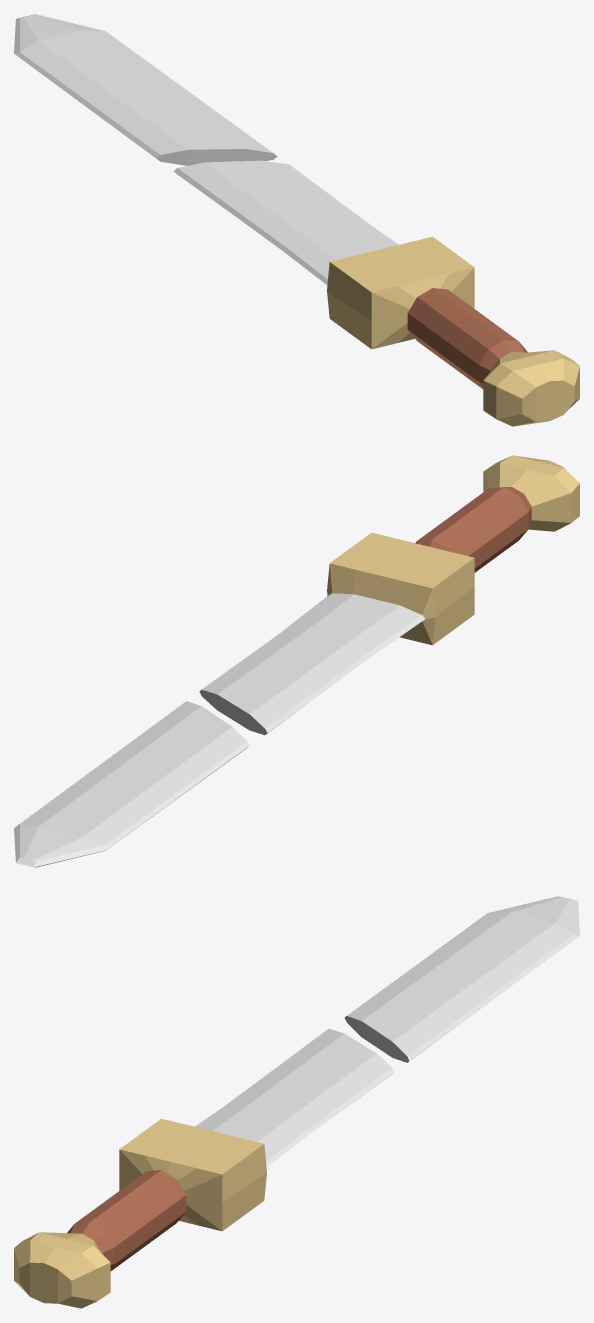
File: Sword Broken 1.fbx
The picture shows the model from 3 angles, top to bottom: view 1: azimuth 30°, elevation 25°; view 2: azimuth 150°, elevation 25°; view 3: azimuth 330°, elevation 25°; orthographic projection.
Parts seen in each view (by area): view 1: Sword Hacker.001, Sword Hacker.002; view 2: Sword Hacker.001, Sword Hacker.002; view 3: Sword Hacker.001, Sword Hacker.002.
Part boxes in pixels (bbox=[...]): Sword Hacker.001: bbox=[173, 160, 579, 426]; Sword Hacker.002: bbox=[14, 14, 277, 165]; Sword Hacker.001: bbox=[199, 455, 579, 735]; Sword Hacker.002: bbox=[14, 701, 249, 867]; Sword Hacker.001: bbox=[14, 1028, 394, 1308]; Sword Hacker.002: bbox=[344, 896, 579, 1062].
Size of the model in its own units: 11.8 by 5.92 by 99.1.
